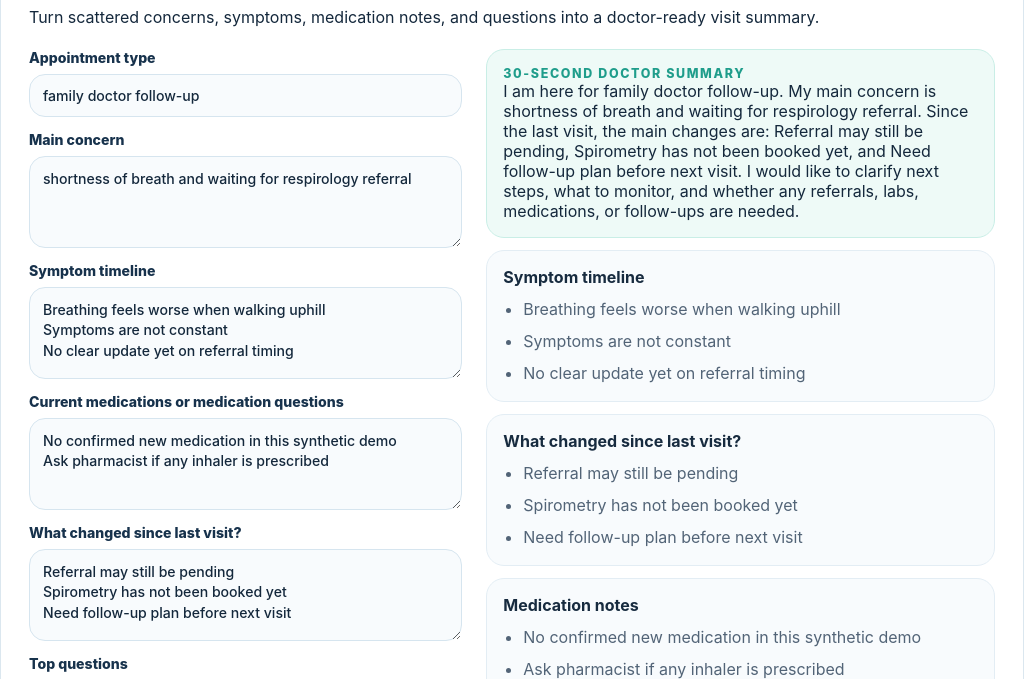
Test: AppointmentPrep › updates the generated summary when the user edits the main concern
Replace the text in the text box labelled "Main concern" with "new dizziness after medication change": (246, 202) [29,156,462,248]
(page scrolled)
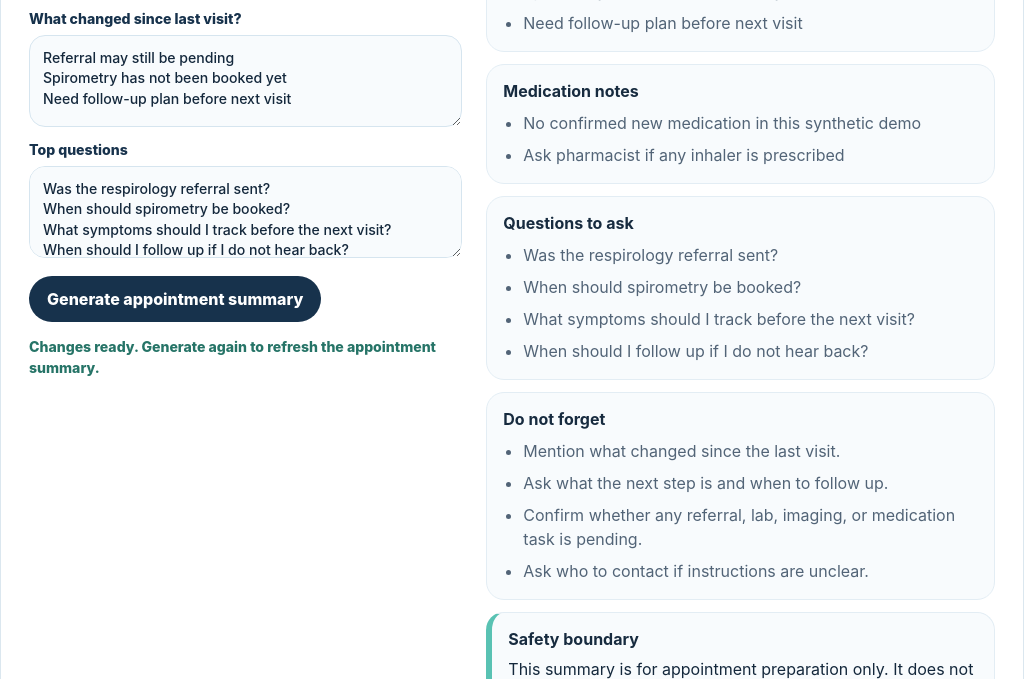
Click the button "Generate appointment summary": (175, 299) [29,276,321,322]
(page scrolled)
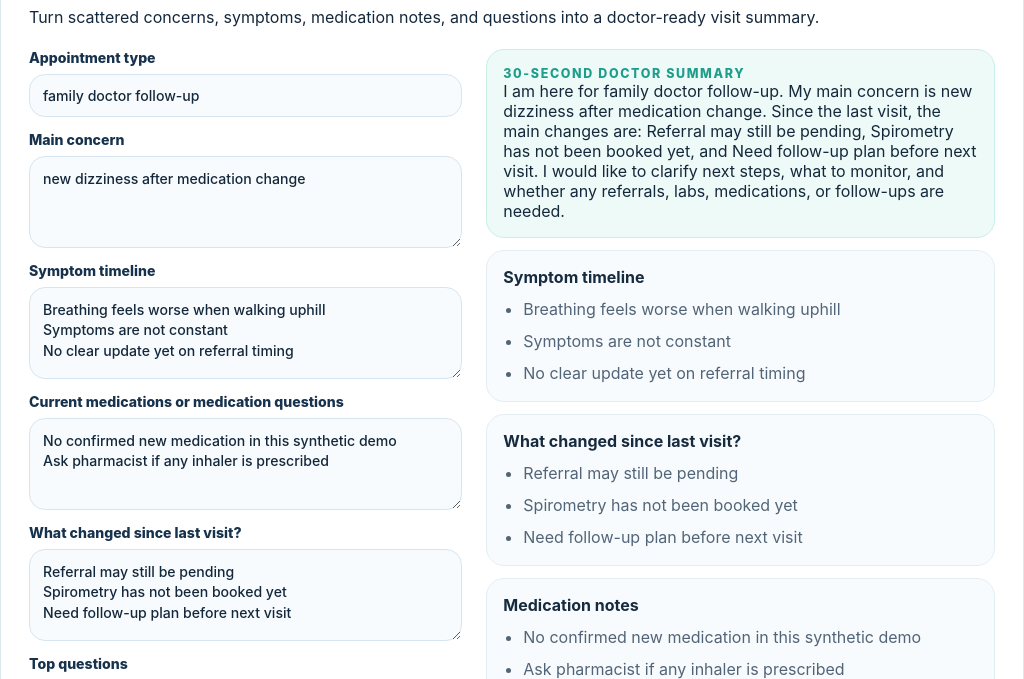
Result: the text "my main concern is new dizziness after medication change" is shown at [503,81,976,221]
